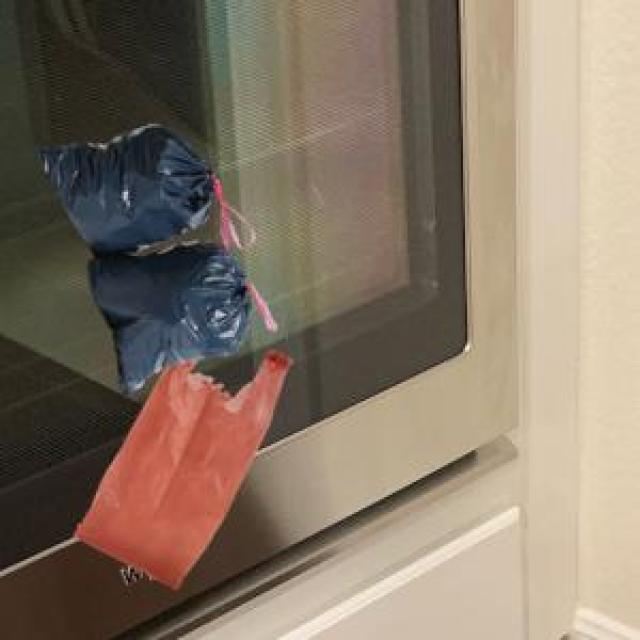miscellaneous trash: (34, 120, 273, 390)
